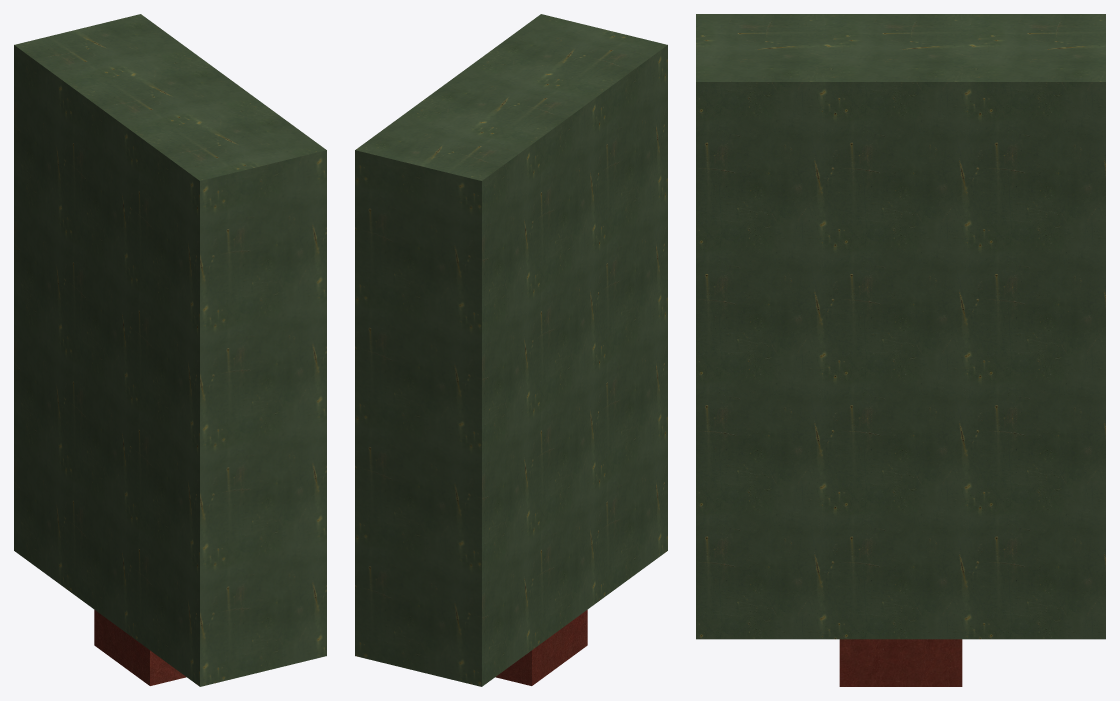
The model's file is keypad.glb.
3 renders of one model, left to right at view 1: azimuth 30°, elevation 25°; view 2: azimuth 150°, elevation 25°; view 3: azimuth 270°, elevation 25°, orthographic. The views are drawn at different scales.
Parts seen in each view (by area): view 1: Cube, Cube.001; view 2: Cube, Cube.001; view 3: Cube, Cube.001.
Part boxes in pixels (<box>): Cube: <box>14,14,326,686</box>; Cube.001: <box>94,610,186,685</box>; Cube: <box>355,14,667,686</box>; Cube.001: <box>495,610,587,685</box>; Cube: <box>696,14,1105,639</box>; Cube.001: <box>839,639,962,686</box>.
Size of the model in its own units: 0.0787 by 0.33 by 0.2.
Materials: 2 (2 with a texture image).
